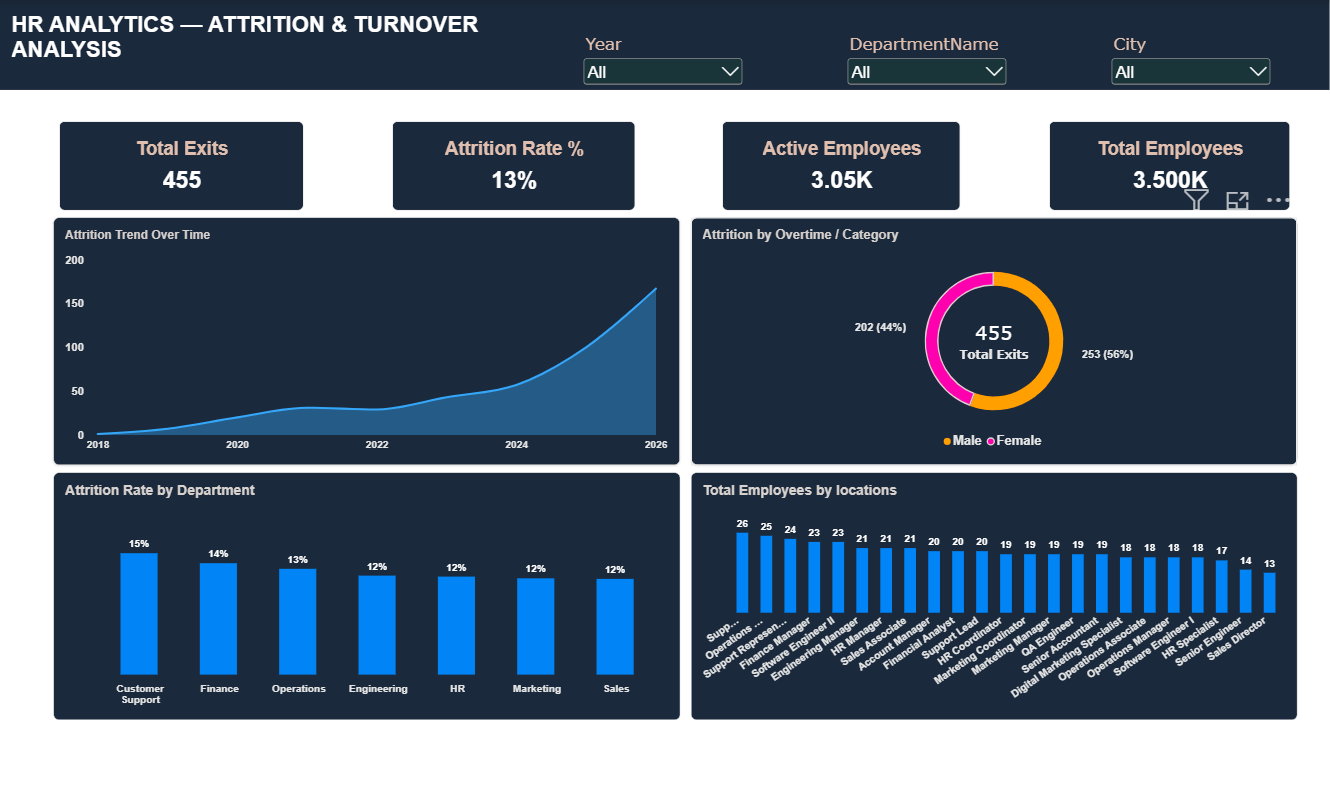

What the dashboard file says about the page in this screenshot:
{"tool":"powerbi","page":{"name":"Attrition Analysis","canvas":[1920,1080],"ordinal":2},"visuals":[{"type":"shape","box":[0,0,1919.3,129.5],"z":0},{"type":"textbox","box":[22.7,0,817.7,129.5],"z":1000},{"type":"slicer","fields":{"Values":["Departments.DepartmentName"]},"box":[1221,47.7,238.5,115.8],"z":2000},{"type":"slicer","fields":{"Values":["Office_Locations.City"]},"box":[1601.3,47.7,238.5,115.8],"z":3000},{"type":"slicer","title":"years ","fields":{"Values":["Dim_Calendar.Year"]},"box":[840.8,47.7,238.5,115.8],"z":4000},{"type":"cardVisual","fields":{"Data":["ALL_MEASURES_.Attrition Rate %"]},"box":[560.3,163.5,370.2,149.9],"z":5000},{"type":"cardVisual","fields":{"Data":["ALL_MEASURES_.Active Employees"]},"box":[1036.5,163.5,363.4,149.9],"z":6000},{"type":"cardVisual","fields":{"Data":["ALL_MEASURES_.Total Exits"]},"box":[81.8,163.5,372.5,149.9],"z":7000},{"type":"cardVisual","fields":{"Data":["ALL_MEASURES_.Total Employees"]},"box":[1505.9,163.5,368,149.9],"z":8000},{"type":"areaChart","title":"Attrition Trend Over Time","fields":{"Category":["Dim_Calendar.Year"],"Y":["ALL_MEASURES_.Total Exits"]},"box":[83.6,313,900.7,356],"z":9000},{"type":"donutChart","title":"Attrition by Overtime / Category","fields":{"Category":["Employees.Gender"],"Y":["ALL_MEASURES_.Total Exits"]},"box":[1001,313,872,356],"z":10000},{"type":"clusteredColumnChart","title":"Attrition Rate by Department","fields":{"Category":["Departments.DepartmentName"],"Y":["ALL_MEASURES_.Attrition Rate %"]},"box":[84,679,901,356],"z":11000},{"type":"clusteredColumnChart","title":"Total Employees by locations","fields":{"Category":["Job_Titles.JobTitle"],"Y":["ALL_MEASURES_.Total Exits"]},"box":[1001,678.5,872,356],"z":12000}]}

Visuals, with their boxes on the page's 1920x1080 design canvas (x1, y1, x2, y2). These are canvas units, not pixel positions in the 1330x800 screenshot, which may show the page scaled, cropped or inside an application window:
shape: 0:0:1919:130
textbox: 23:0:840:130
slicer - Departments.DepartmentName: 1221:48:1460:164
slicer - Office_Locations.City: 1601:48:1840:164
"years " slicer: 841:48:1079:164
cardVisual - ALL_MEASURES_.Attrition Rate %: 560:164:930:313
cardVisual - ALL_MEASURES_.Active Employees: 1036:164:1400:313
cardVisual - ALL_MEASURES_.Total Exits: 82:164:454:313
cardVisual - ALL_MEASURES_.Total Employees: 1506:164:1874:313
"Attrition Trend Over Time" areaChart: 84:313:984:669
"Attrition by Overtime / Category" donutChart: 1001:313:1873:669
"Attrition Rate by Department" clusteredColumnChart: 84:679:985:1035
"Total Employees by locations" clusteredColumnChart: 1001:678:1873:1034
